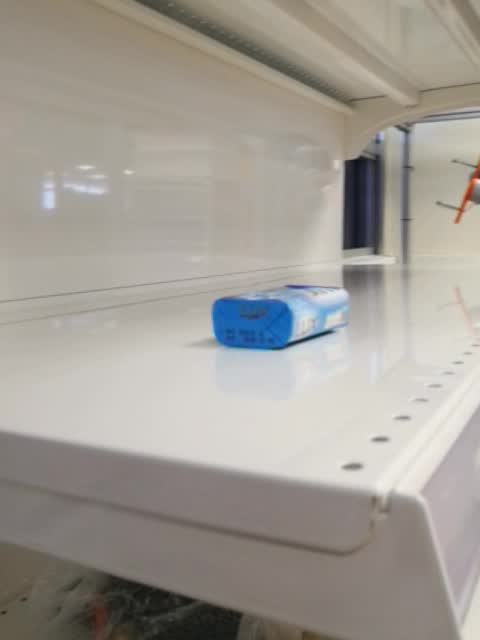soap: (210, 284, 350, 352)
